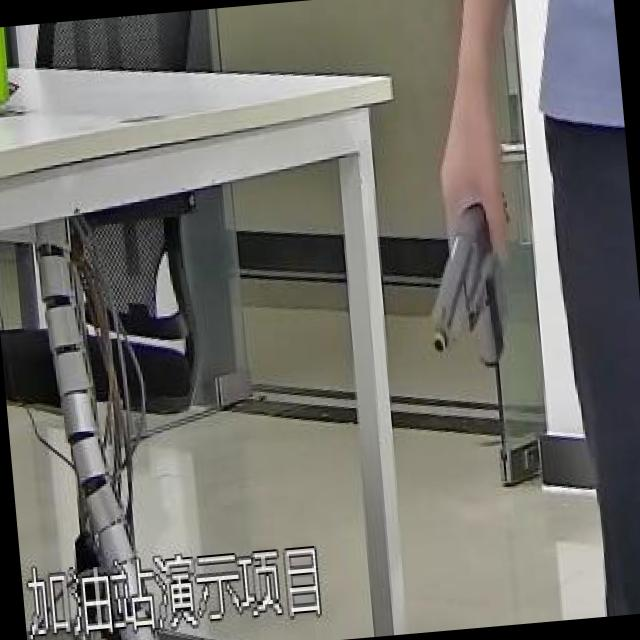Guns: (396, 186, 534, 397)
